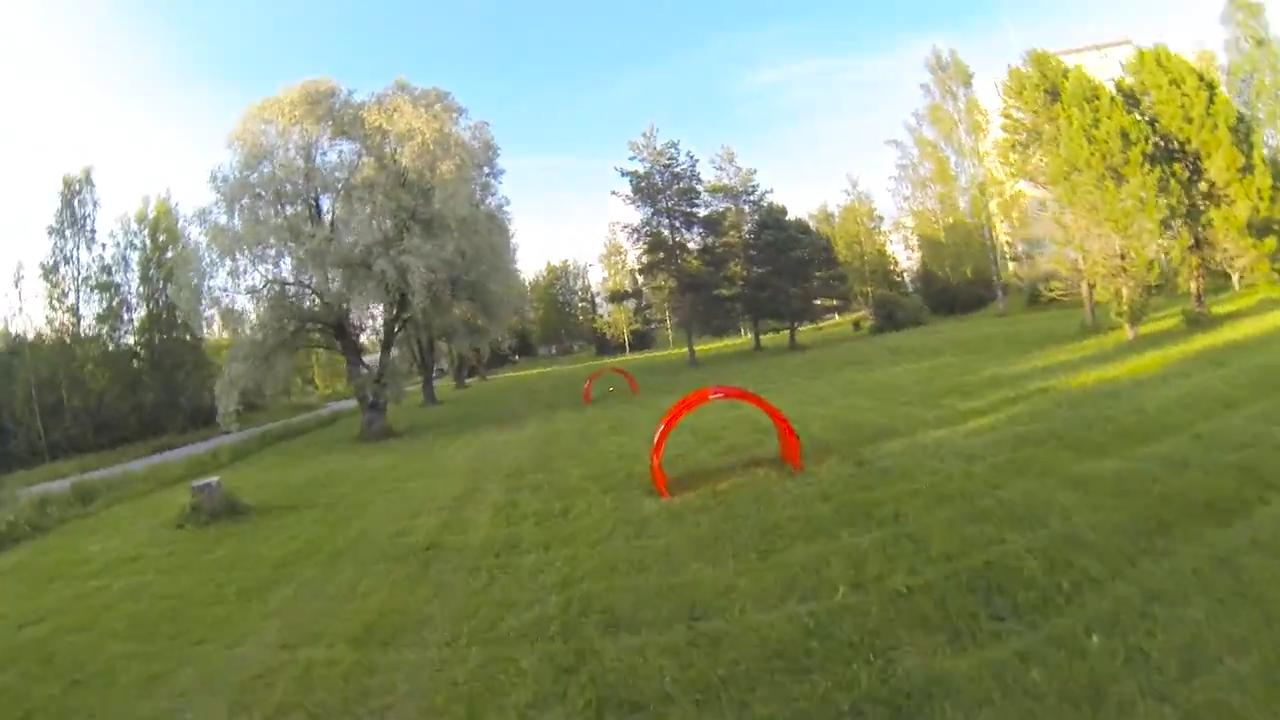gate: (648, 383, 804, 497)
